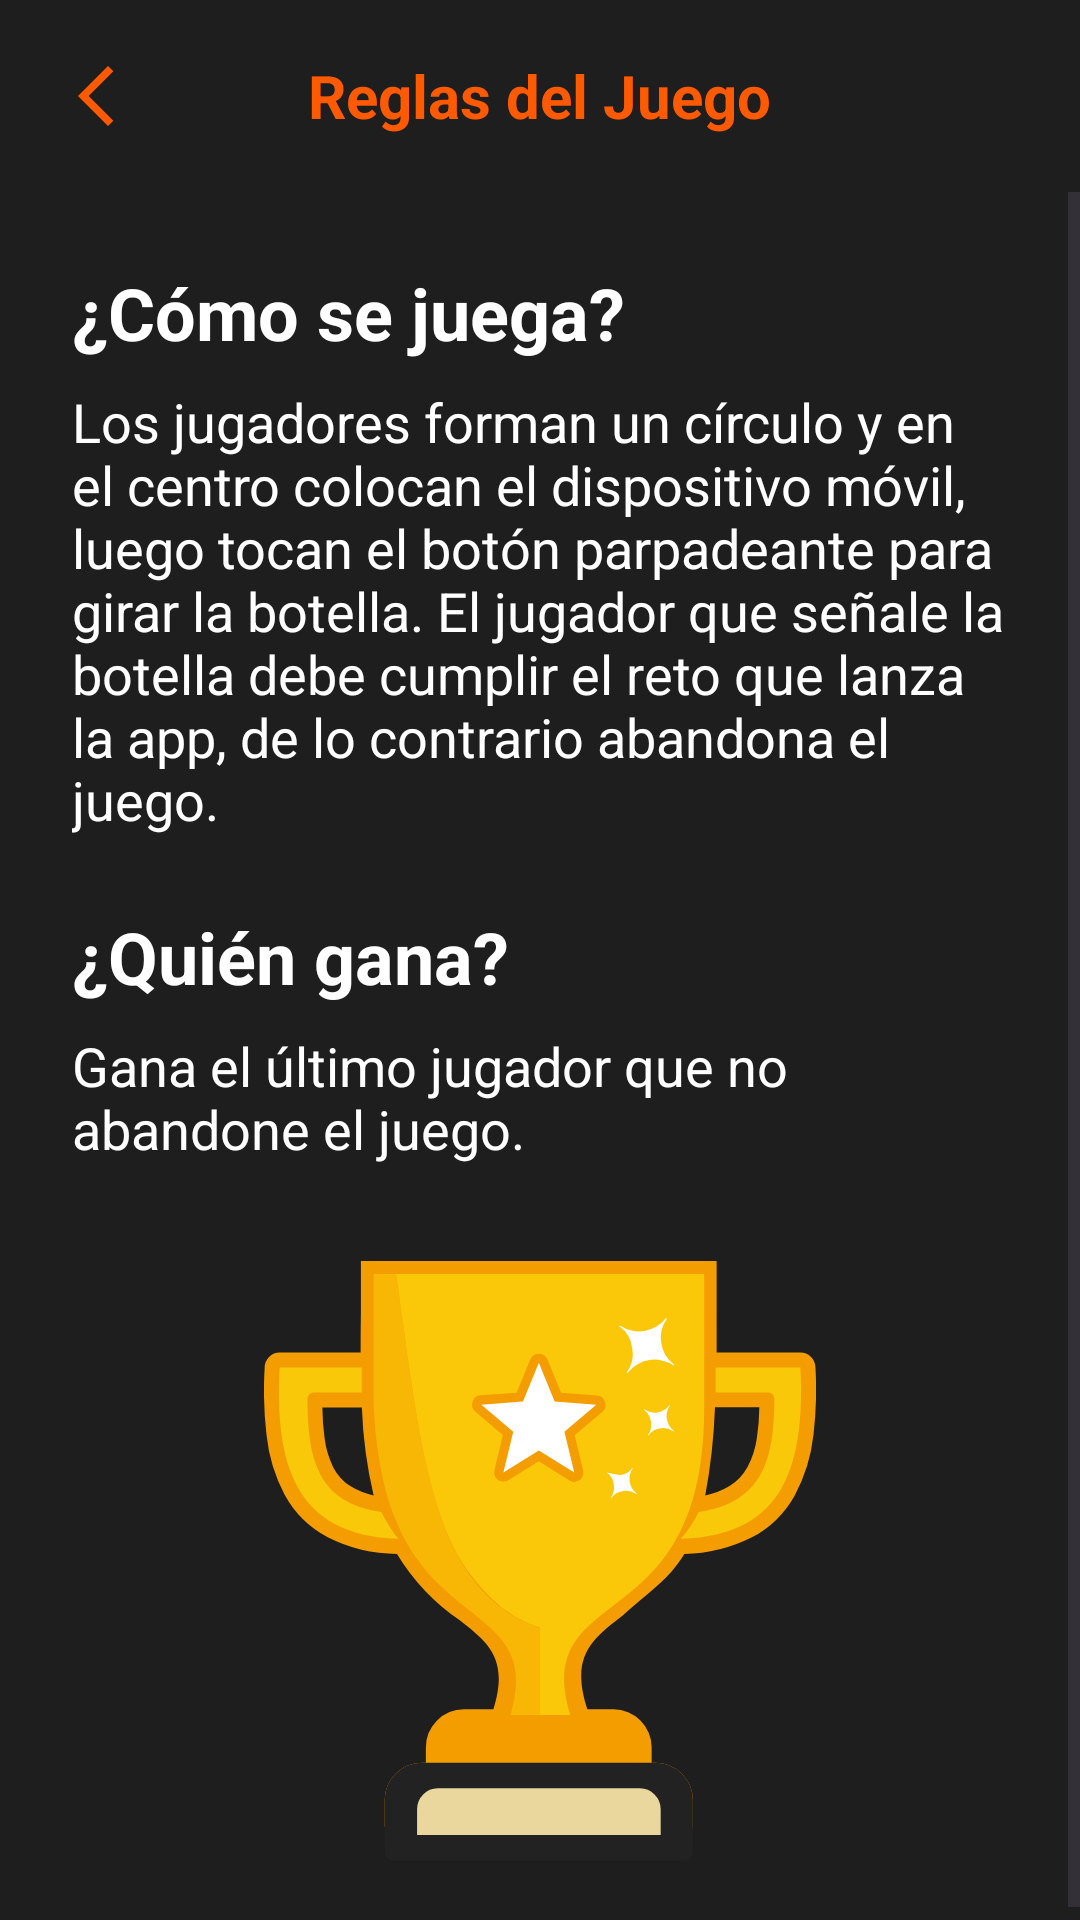

Icon click points for this 1080w x 1920h phone screenshot, format [x,y]:
Atrás: [95,96]
